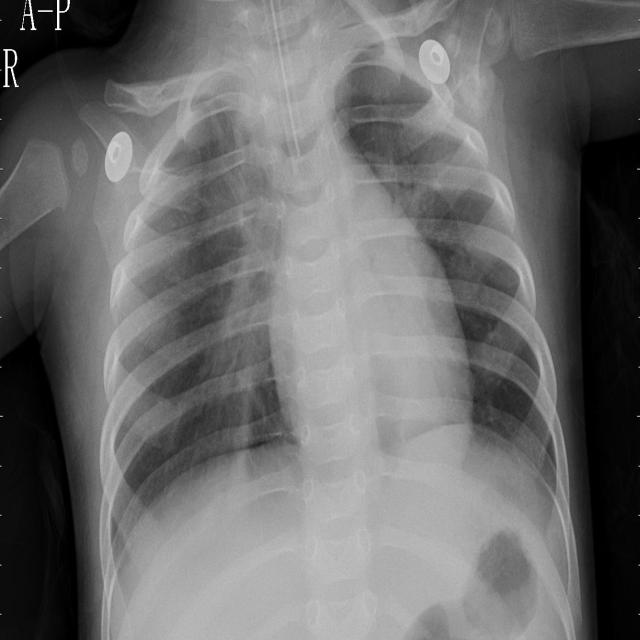low-pneumonia: (205, 140, 278, 444), (371, 141, 447, 251)
